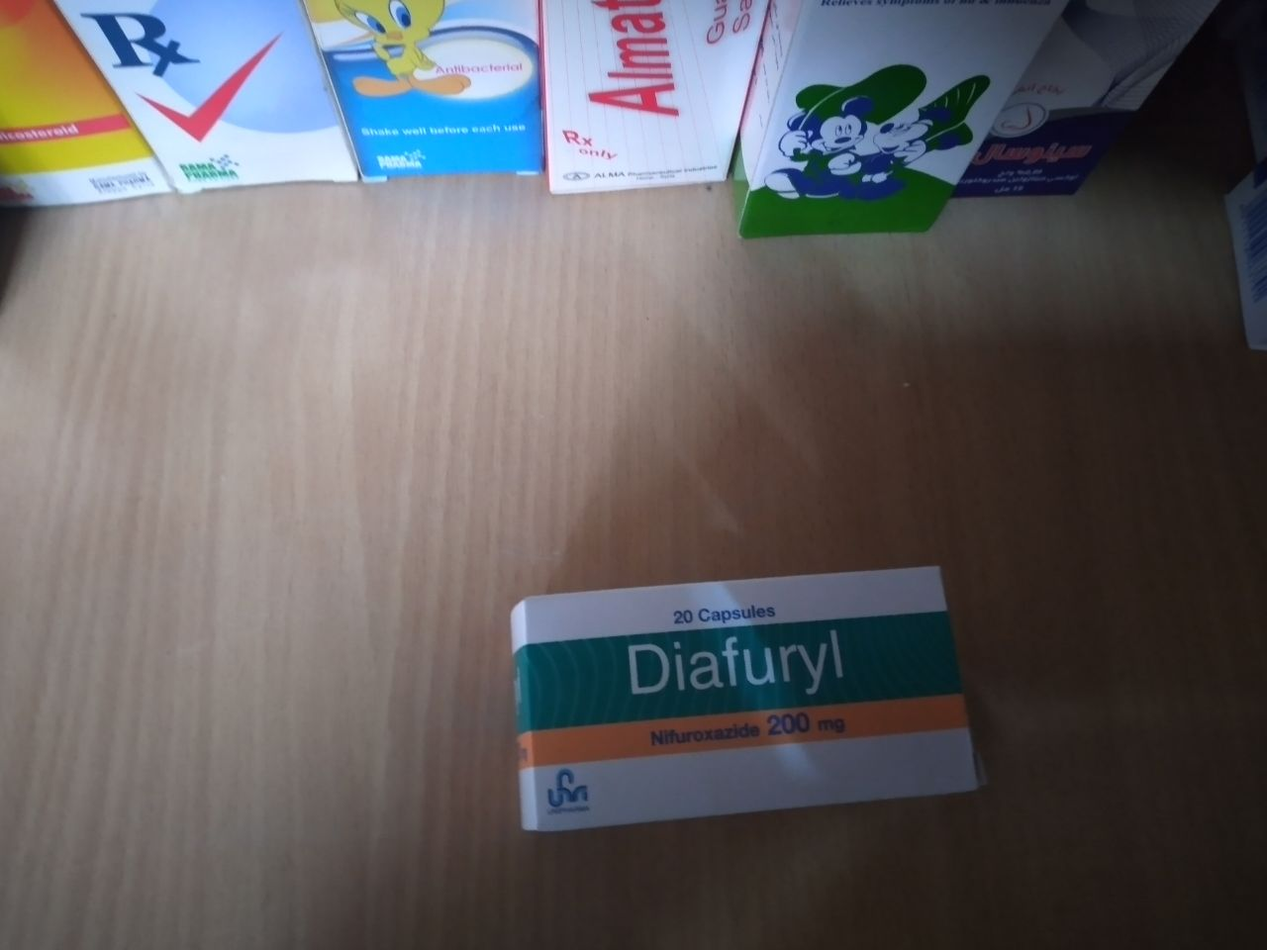Medicine: (500, 569, 992, 836), (728, 0, 1010, 272), (64, 0, 344, 195), (319, 0, 574, 213), (963, 0, 1183, 215), (547, 0, 755, 208), (0, 0, 124, 235)
